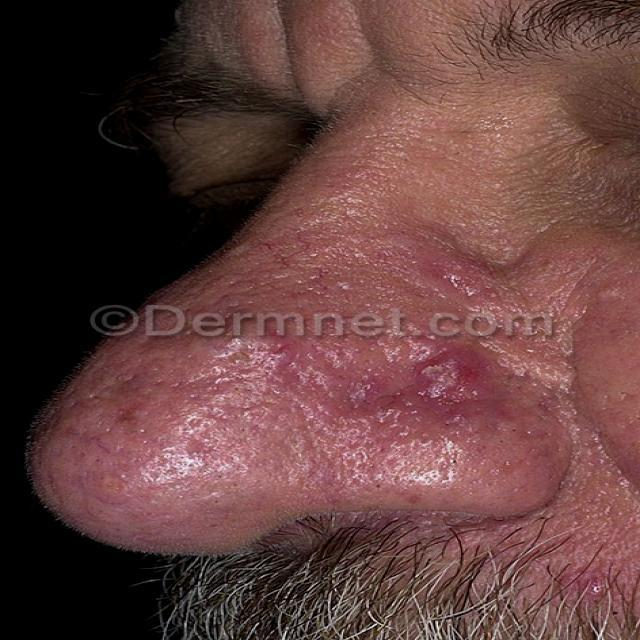Rosacea: (39, 225, 537, 512)
